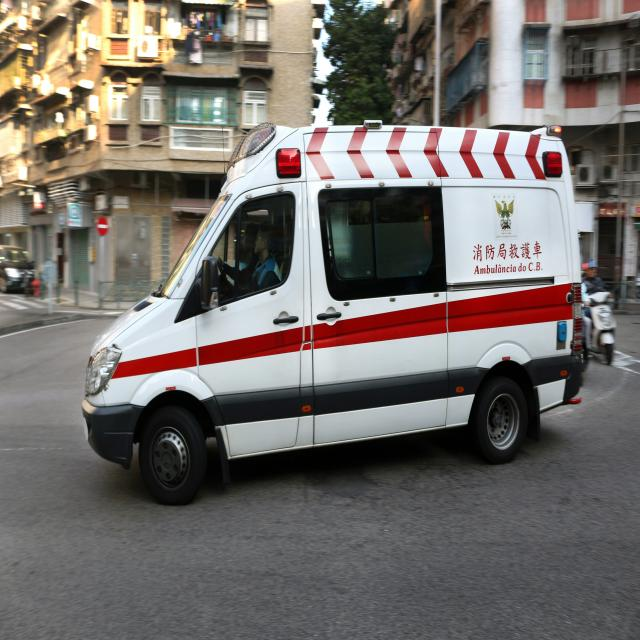emergency: (82, 124, 581, 502)
